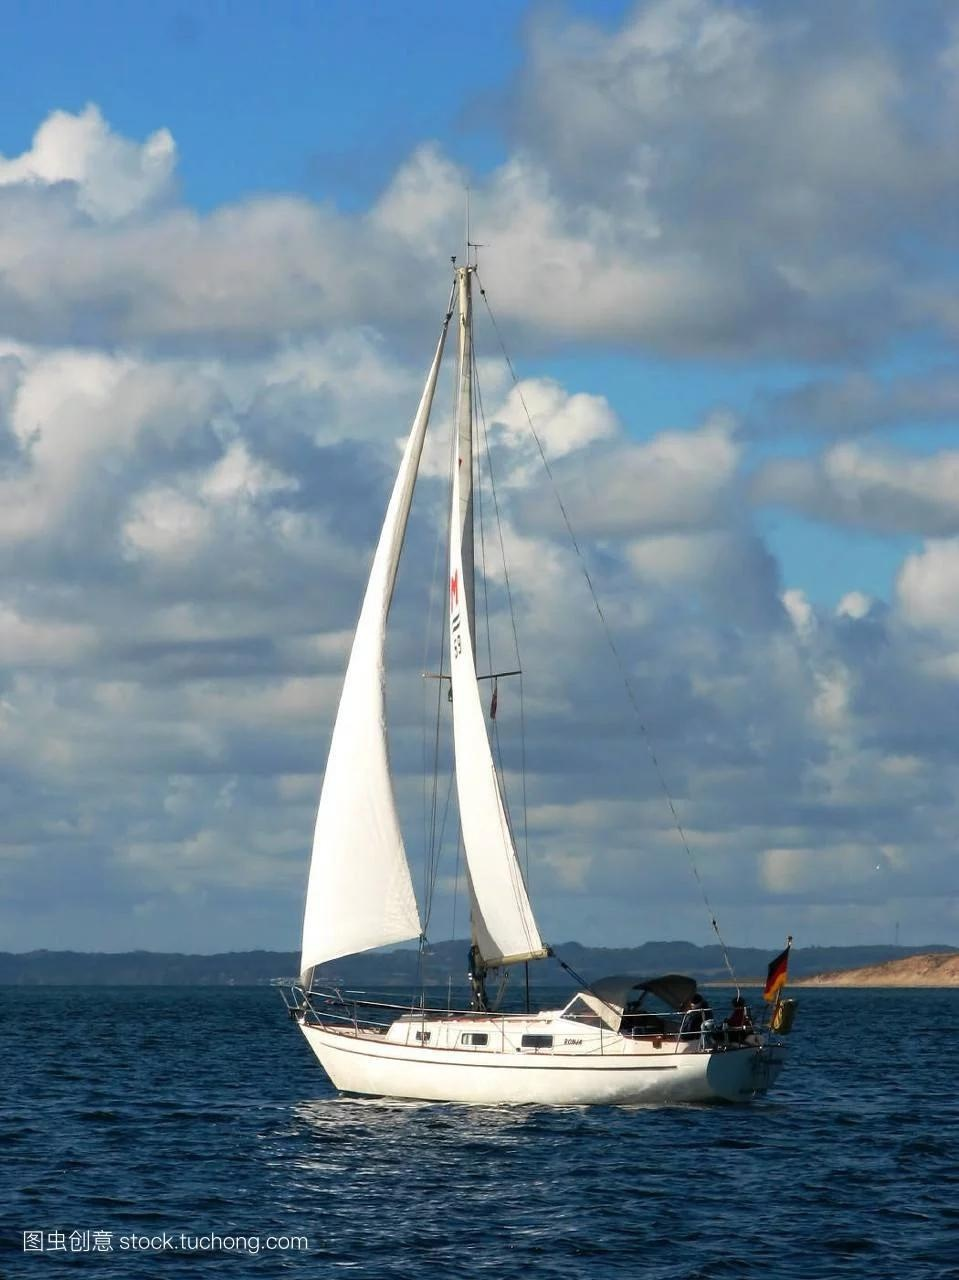fanchuan: (282, 233, 855, 1119)
